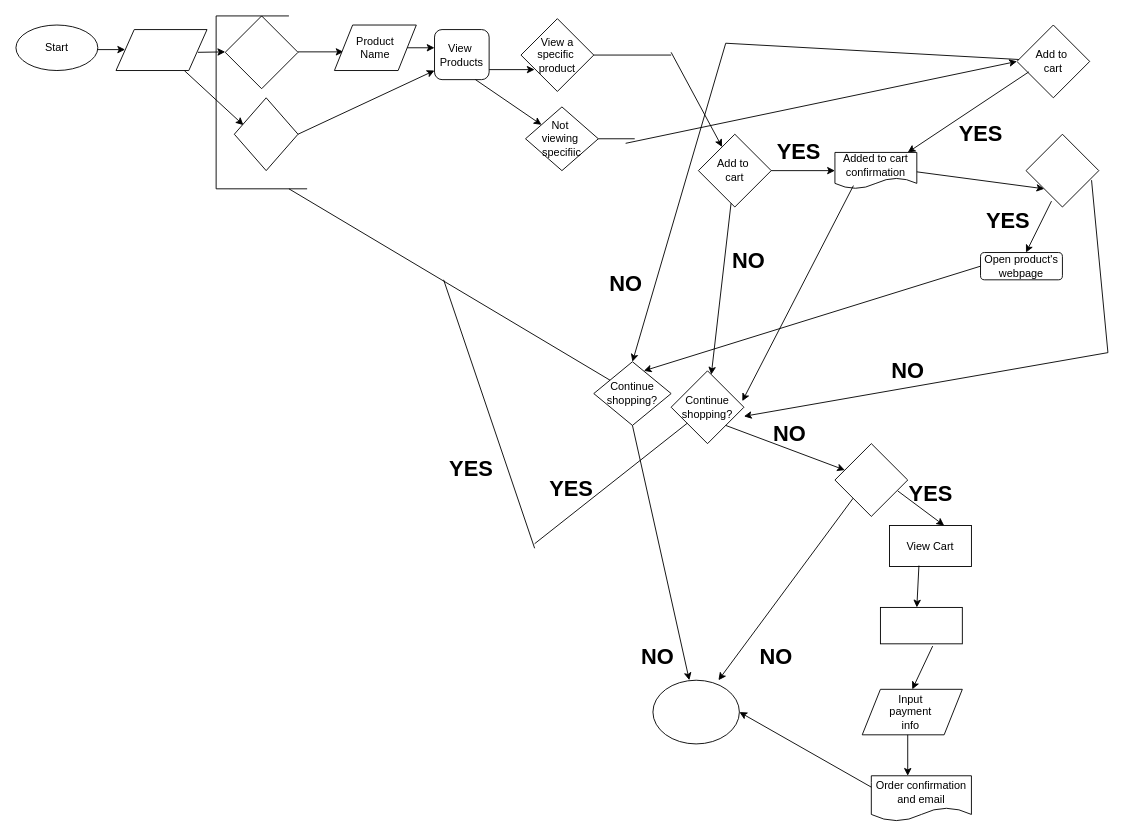
This 1131x837 diagram has some shape labels left out. Here are the shapes that lost their labels. From the top down, the box of each, then its label:
(115, 29, 207, 71): Enter Website
(224, 15, 298, 89): Search
(233, 97, 298, 171): Explore home page
(1025, 133, 1099, 207): View Product Page
(834, 443, 908, 516): Checkout
(880, 607, 962, 644): View payment screen
(652, 679, 739, 744): EXIT (Leave Website)
